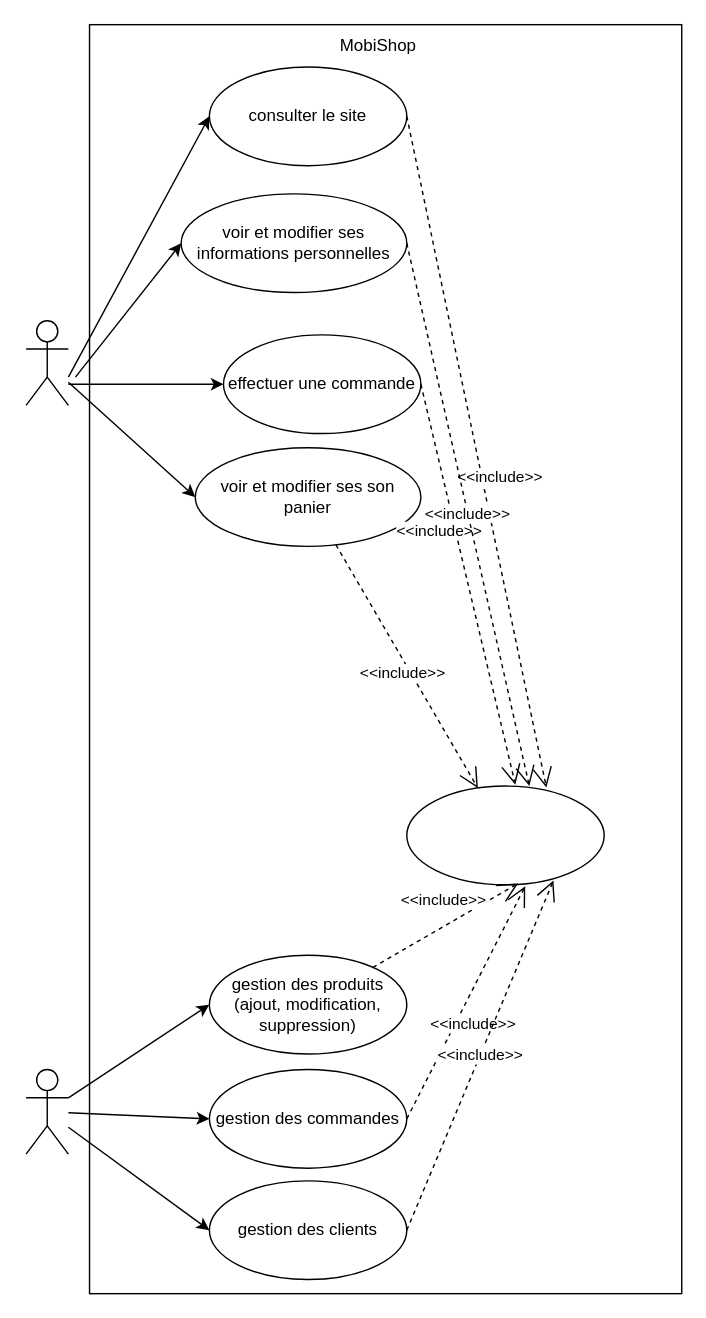
Some shapes in this 706 by 1318 pixel diagram are drawn without their labels. Each missing label, with the box of its shape:
admin: (25, 1068, 68, 1154)
authentification: (405, 785, 604, 885)
client: (25, 319, 68, 405)
